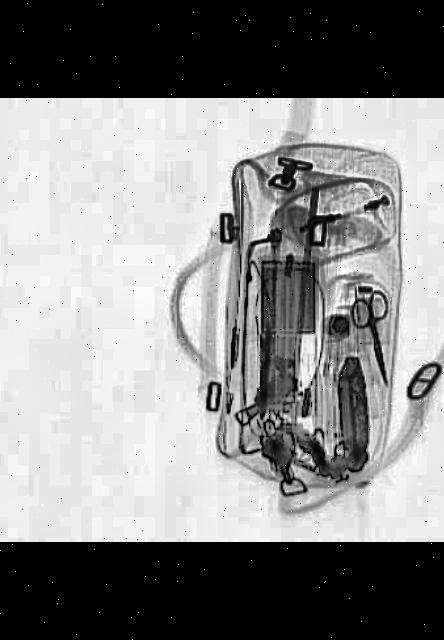Scissors: (344, 290, 400, 388)
